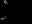person: (1, 14, 6, 21), (1, 1, 8, 3)
